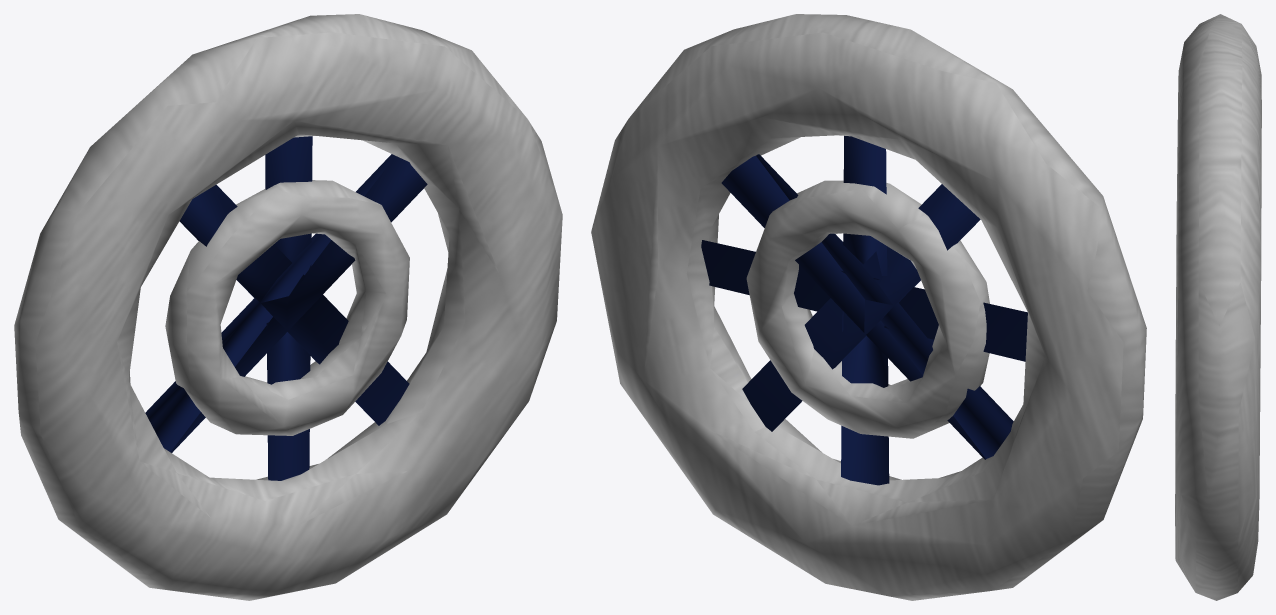
Rendered from weel.dae.
The picture shows the model from 3 angles, left to right: view 1: azimuth 30°, elevation 25°; view 2: azimuth 150°, elevation 25°; view 3: azimuth 270°, elevation 25°; orthographic projection. The views are drawn at different scales.
Parts seen in each view (by area): view 1: Torus_000; view 2: Torus_000; view 3: Torus_000.
Boxes of the visible parts, box(x1,y1,x2,y2) form: Torus_000: box(14, 14, 562, 600); Torus_000: box(591, 14, 1146, 600); Torus_000: box(1175, 14, 1261, 600).
Size of the model in its own units: 0.1166 by 0.0173 by 0.1159.
Materials: 1 (1 with a texture image).
